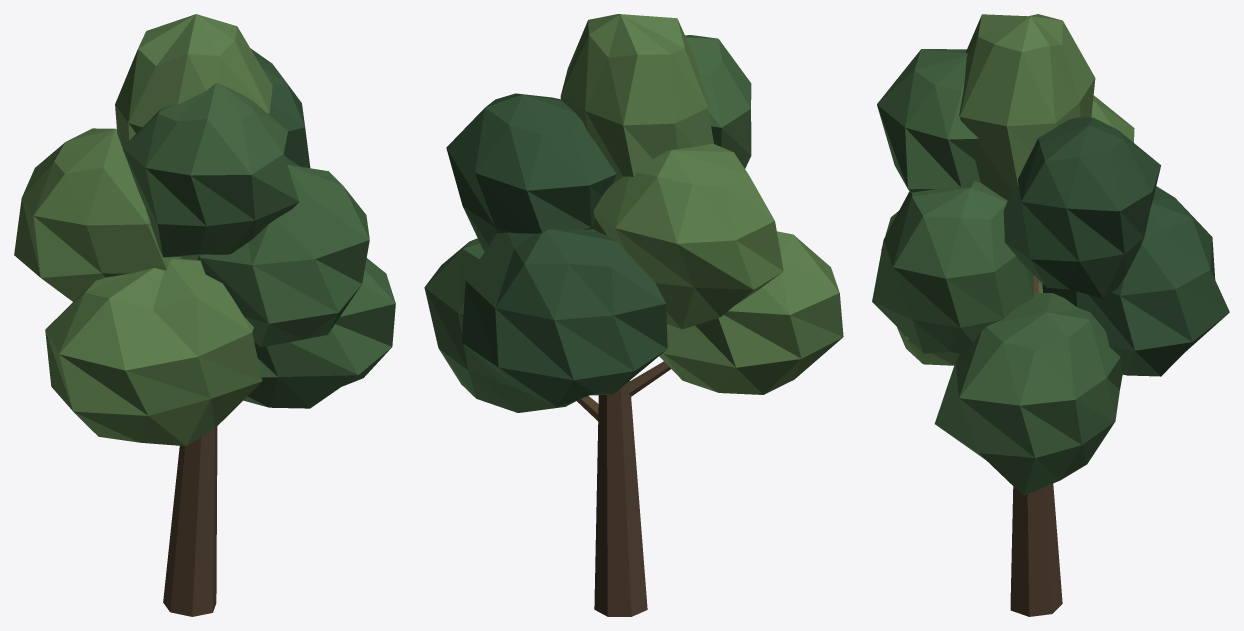
File: CoastalPine.glb
3 views of the same model, side by side, from view 1: azimuth 30°, elevation 25°; view 2: azimuth 150°, elevation 25°; view 3: azimuth 270°, elevation 25° (orthographic).
Parts seen in each view (by area): view 1: CoastalPine_leavesLight, CoastalPine_leaves, CoastalPine_bark, CoastalPine_leavesDark; view 2: CoastalPine_leavesLight, CoastalPine_leavesDark, CoastalPine_leaves, CoastalPine_bark; view 3: CoastalPine_leaves, CoastalPine_leavesDark, CoastalPine_leavesLight, CoastalPine_bark.
Part boxes in pixels (x1,y1,x2,y2): CoastalPine_leavesLight: (14,14,272,446); CoastalPine_leaves: (122,83,395,408); CoastalPine_bark: (163,426,217,616); CoastalPine_leavesDark: (250,48,310,168); CoastalPine_leavesLight: (560,14,843,394); CoastalPine_leavesDark: (446,93,667,406); CoastalPine_leaves: (424,35,751,412); CoastalPine_bark: (577,361,670,616); CoastalPine_leaves: (872,49,1122,495); CoastalPine_leavesDark: (1003,117,1229,376); CoastalPine_leavesLight: (881,14,1134,365); CoastalPine_bark: (1010,279,1062,616).
Bounding box in the file's own units: 15.28 × 23.85 × 13.09.
5 materials, 5 textured.
